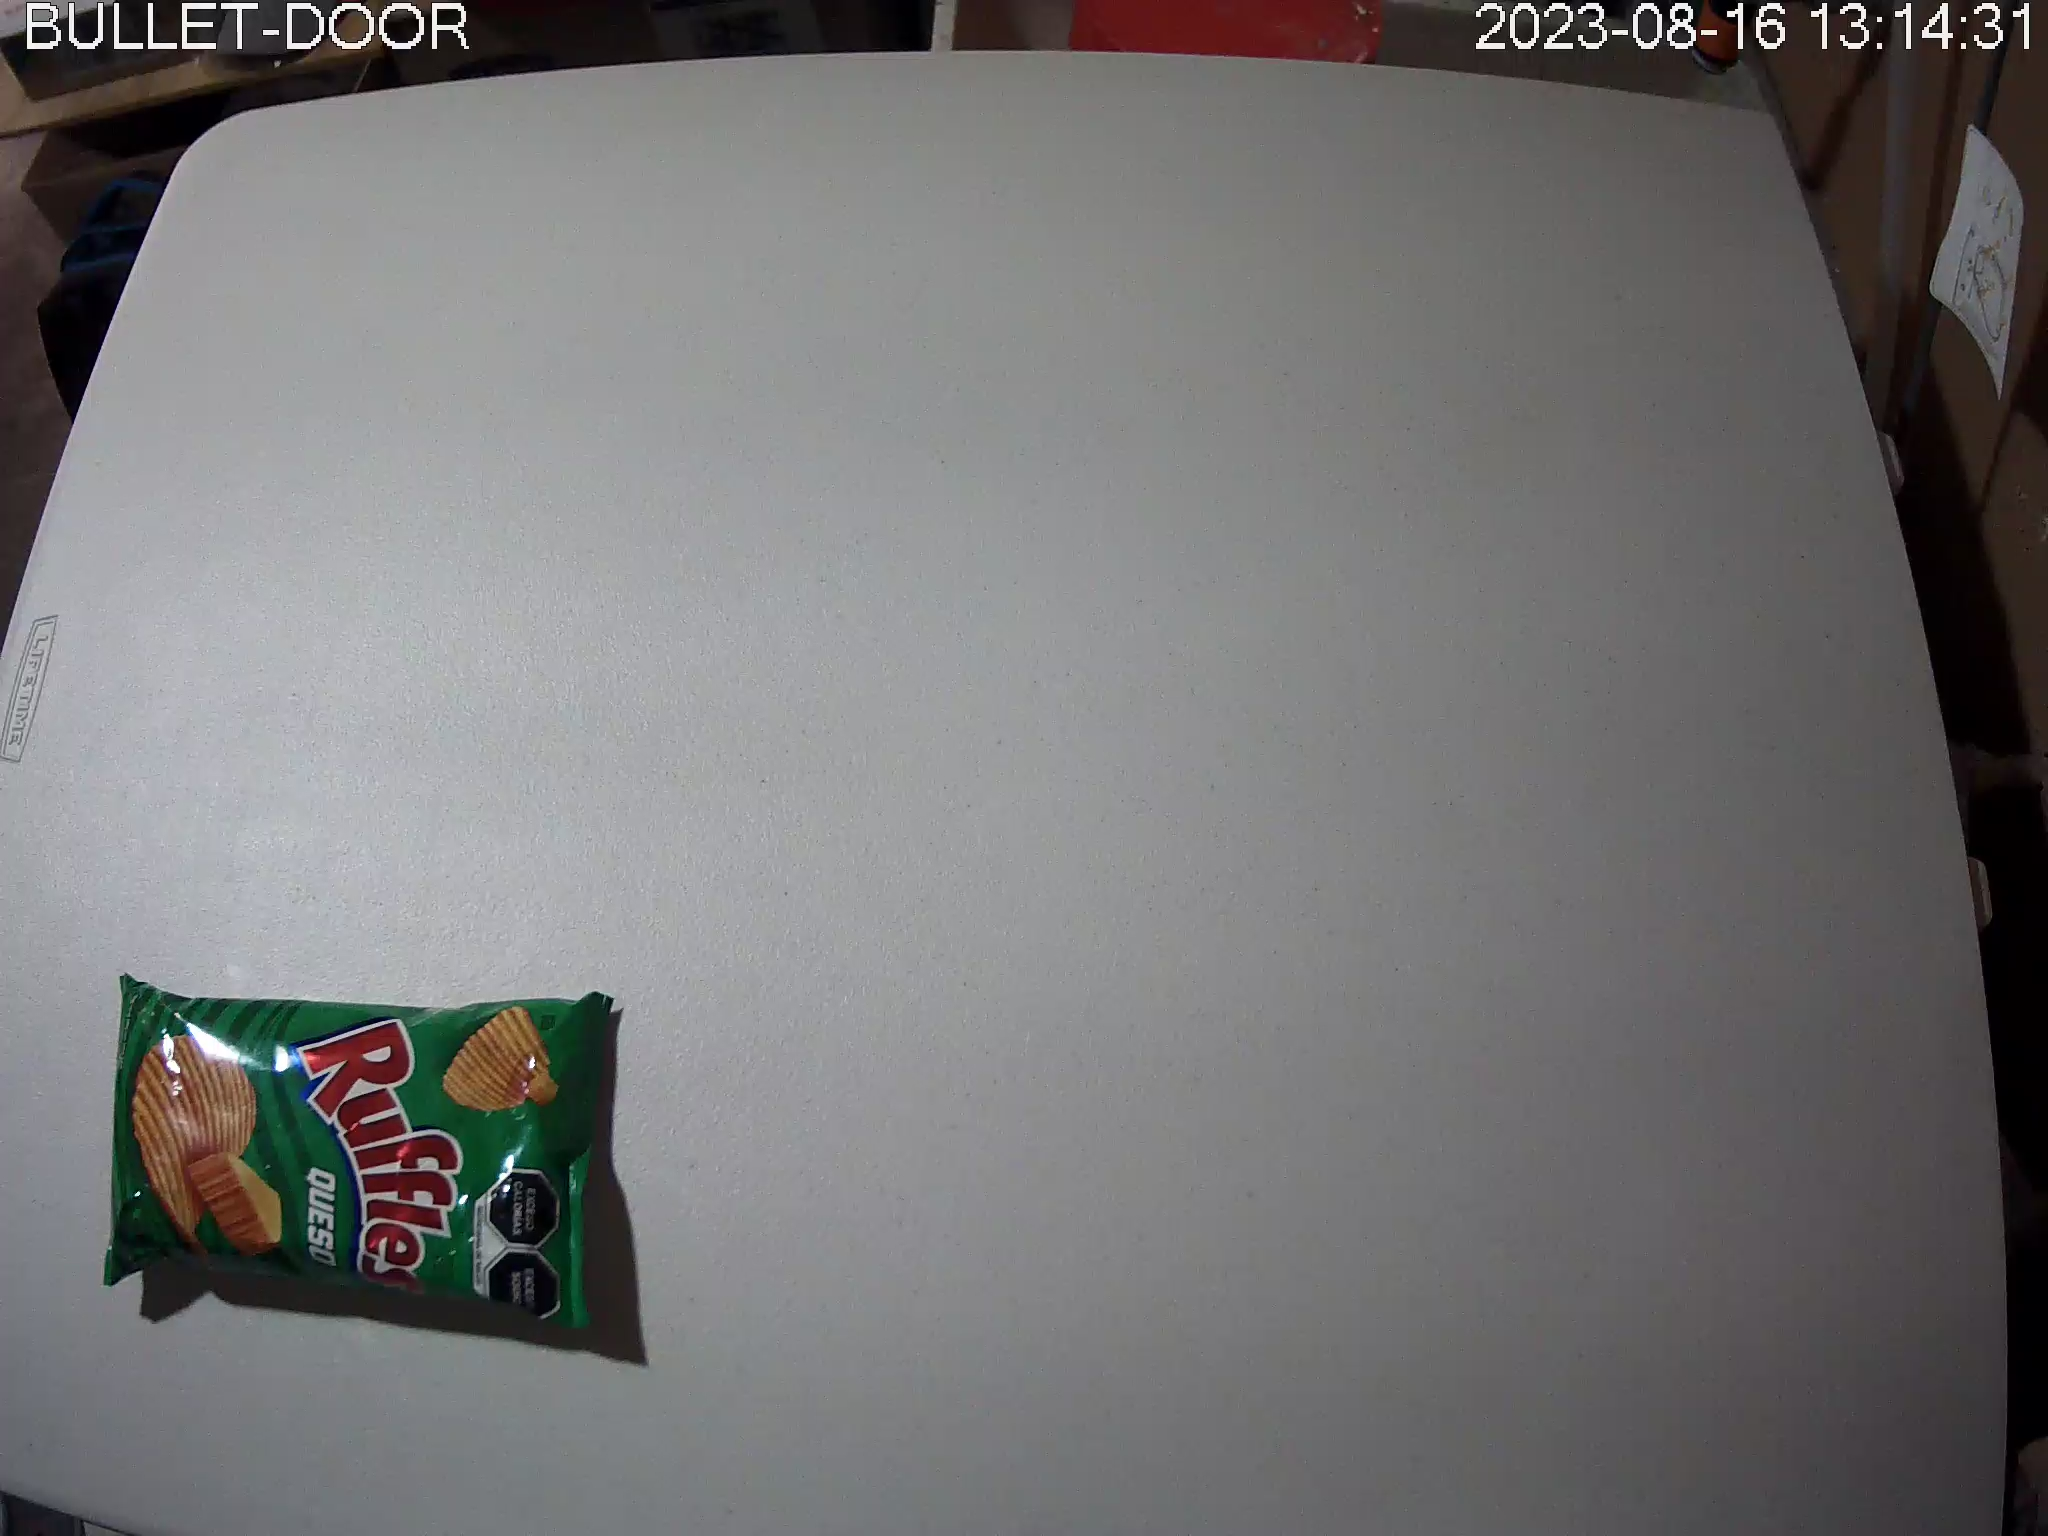RufflesQ_48_F: (102, 973, 618, 1354)
